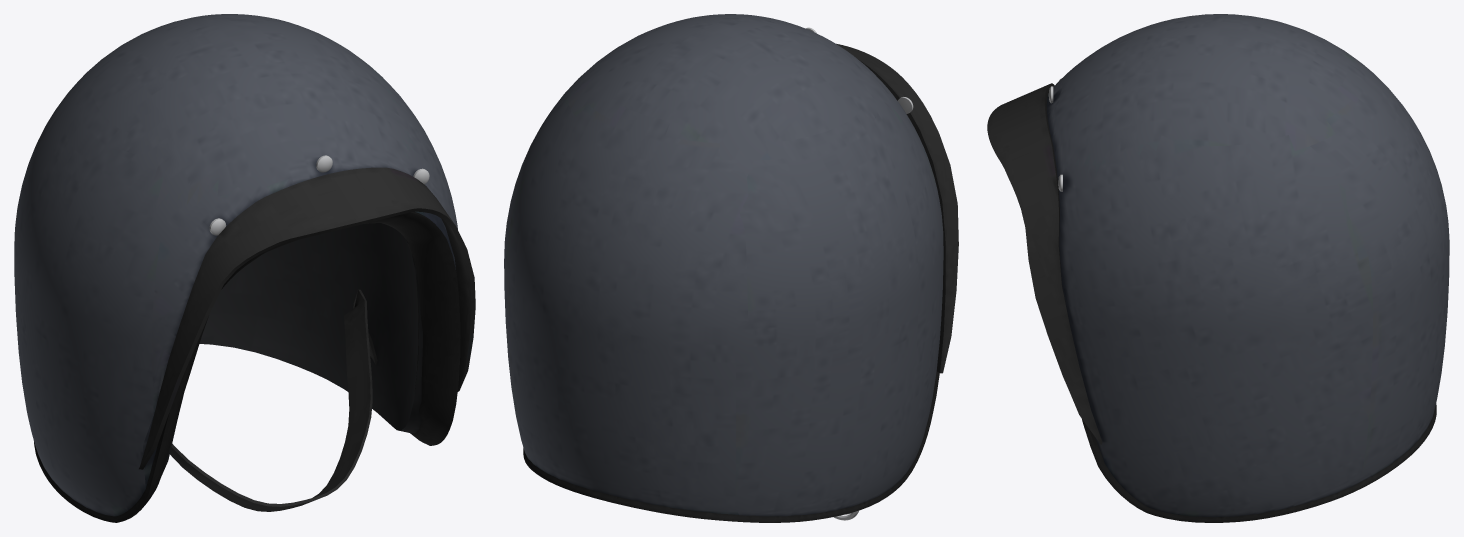
Rendered from helmet_1.glb.
3 renders of one model, left to right at view 1: azimuth 30°, elevation 25°; view 2: azimuth 150°, elevation 25°; view 3: azimuth 270°, elevation 25°, orthographic. The views are drawn at different scales.
Visible parts, largest first — view 1: body; view 2: body; view 3: body.
Part boxes in pixels (<box>): body: <box>14,14,475,522</box>; body: <box>504,14,958,522</box>; body: <box>987,14,1449,522</box>.
Bounding box in the file's own units: 0.268 × 0.3079 × 0.2946.
1 material, 1 textured.
